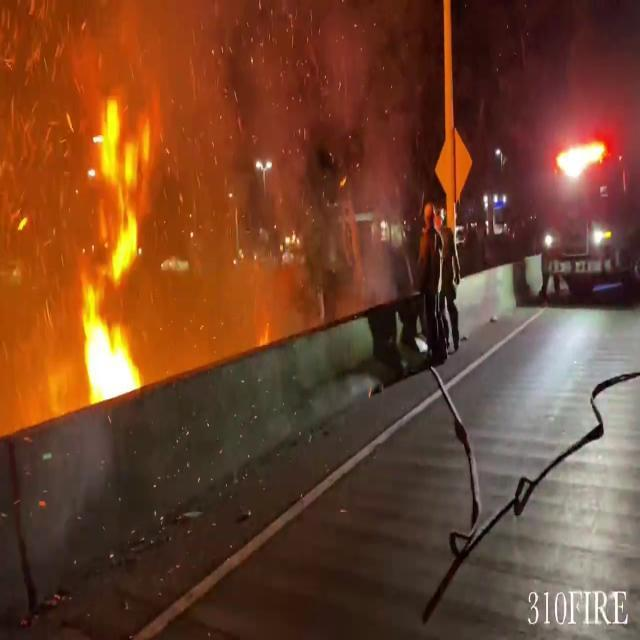Fire: (74, 108, 144, 390)
Smoke: (1, 0, 445, 373)
